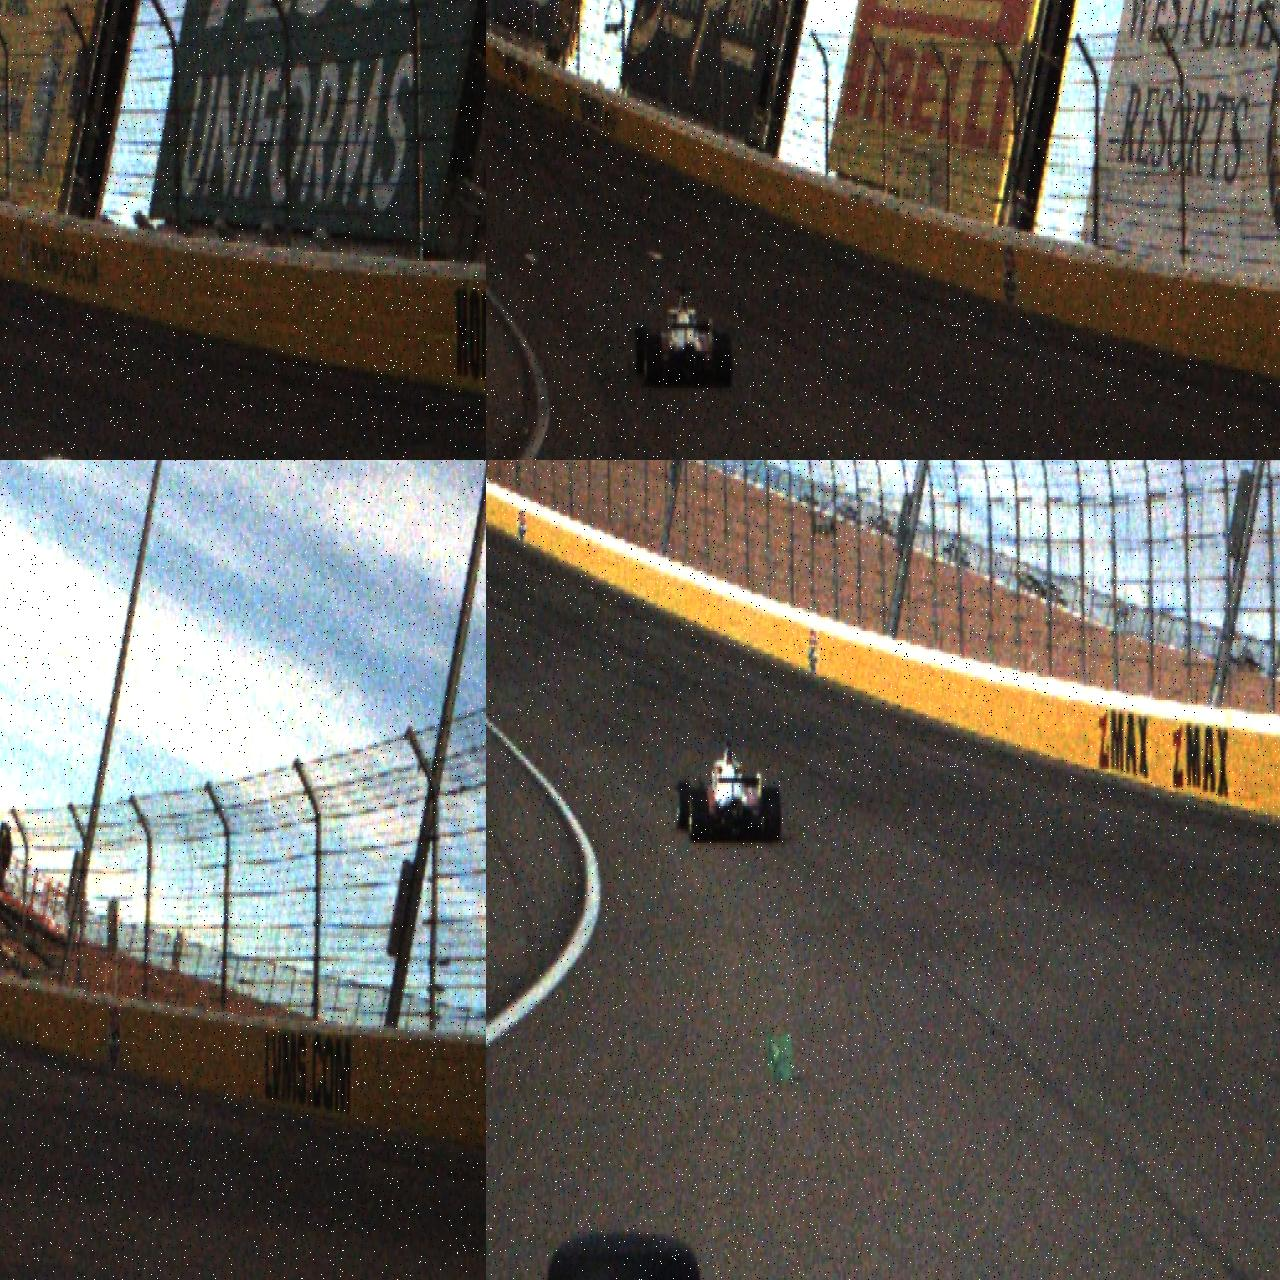AV: (675, 736, 782, 845), (634, 282, 733, 389)
Wheel: (762, 787, 782, 844), (689, 788, 709, 844), (715, 332, 733, 388), (645, 334, 661, 388), (633, 326, 647, 376), (676, 782, 690, 830)
